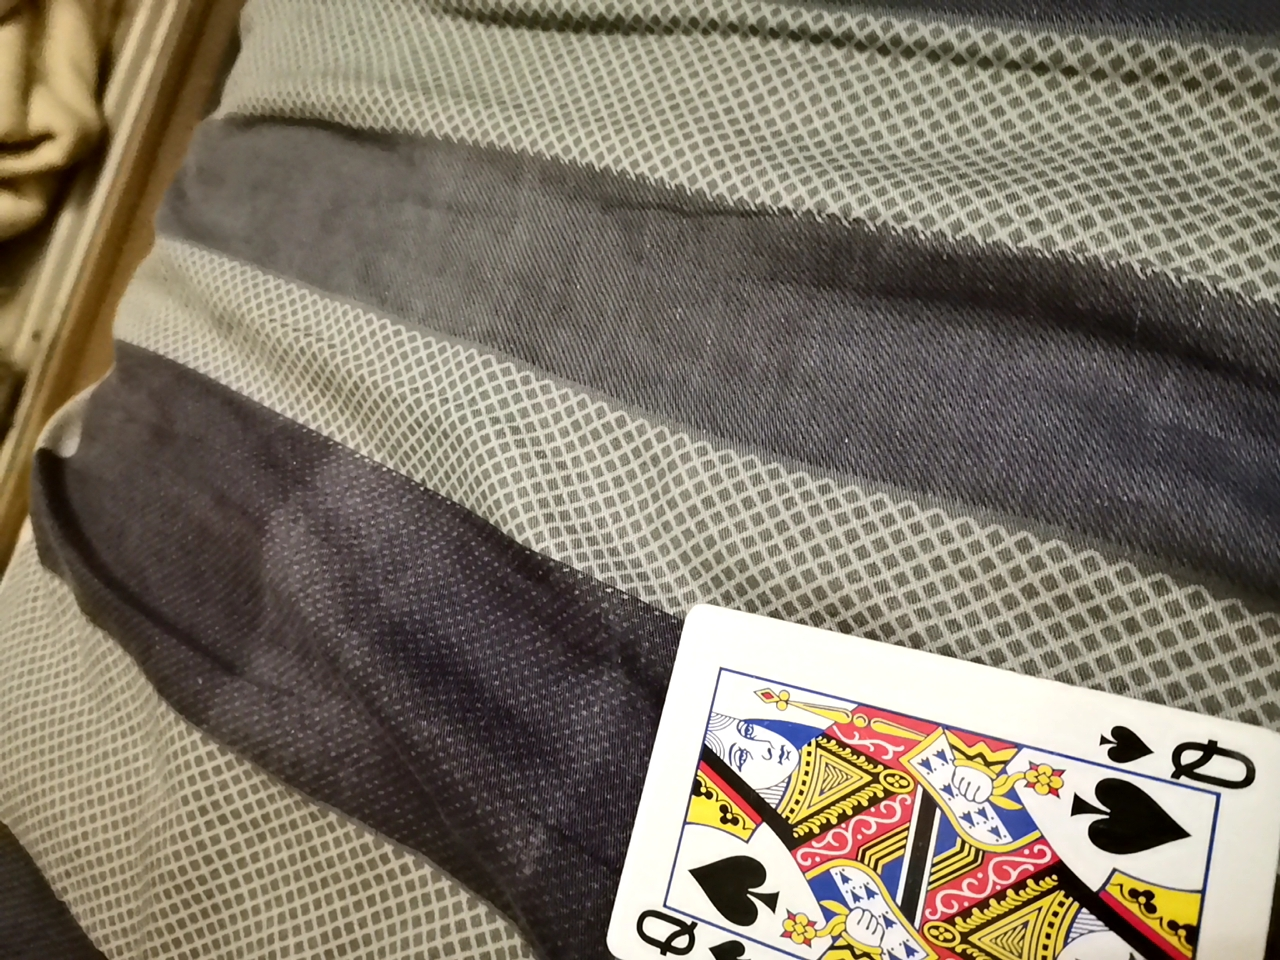ht q: (565, 602, 1267, 953)
